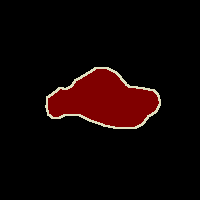hat: (46, 68, 160, 128)
